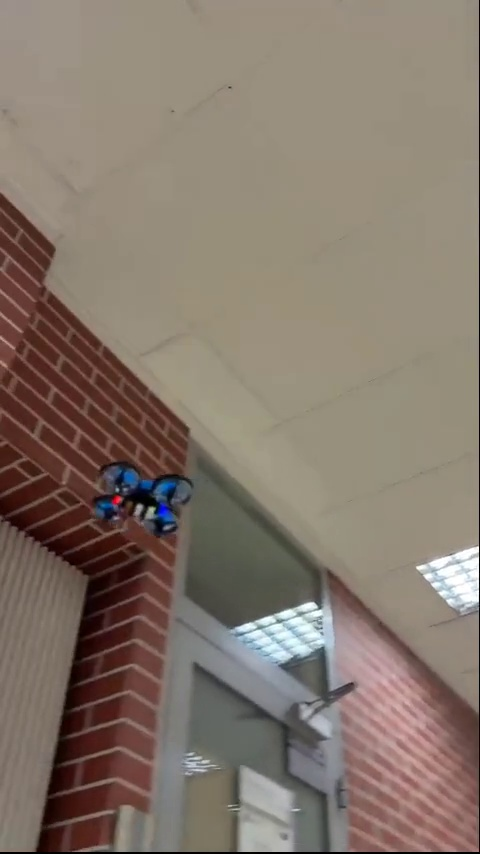drone: (89, 457, 188, 535)
